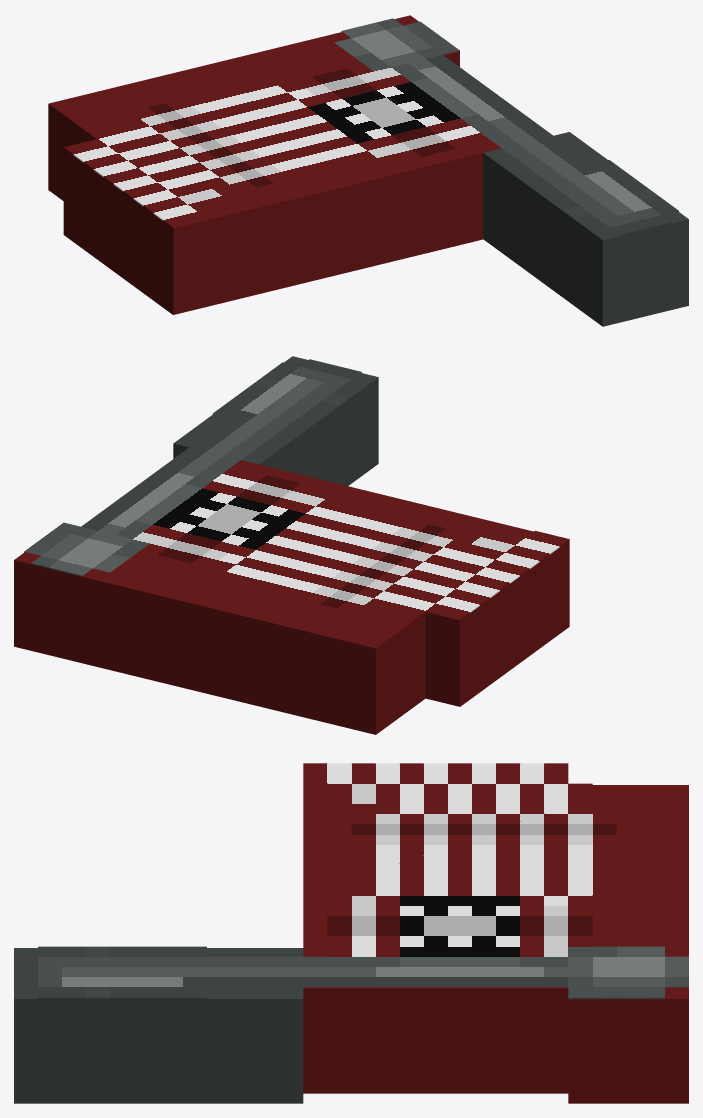
File: CMU3DReduxVehicleTankMountedFlagMounted.glb
3 renders of one model, top to bottom at view 1: azimuth 30°, elevation 25°; view 2: azimuth 150°, elevation 25°; view 3: azimuth 270°, elevation 25°, orthographic. The views are drawn at different scales.
Parts seen in each view (by area): view 1: weapon section (×5), weapon original finish; view 2: weapon section (×5), weapon original finish; view 3: weapon section (×5), weapon original finish.
Part boxes in pixels (x1,y1,x2,y2): weapon section (×5): (48,15,688,326); weapon original finish: (63,18,678,236); weapon section (×5): (14,356,569,734); weapon original finish: (24,359,569,620); weapon section (×5): (14,783,688,1103); weapon original finish: (14,763,688,999).
Bounding box in the file's own units: 0.7188 × 0.152 × 0.875.
3 materials, 1 textured.
